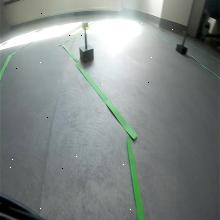green: (82, 21, 89, 30)
